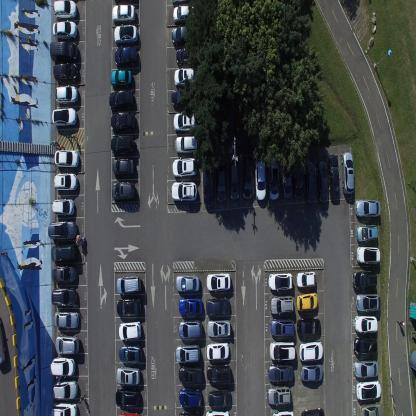car: (49, 40, 78, 62), (108, 87, 134, 111), (48, 218, 76, 240), (327, 154, 340, 200), (51, 378, 78, 400), (353, 334, 378, 357), (51, 285, 76, 308), (54, 333, 80, 355), (171, 180, 197, 202), (355, 379, 381, 401), (175, 342, 200, 364), (206, 362, 231, 384), (116, 274, 141, 296), (50, 356, 75, 378), (298, 340, 323, 362), (172, 111, 198, 132), (269, 340, 295, 361), (52, 61, 79, 81), (342, 151, 354, 196), (50, 243, 78, 262), (110, 134, 134, 156), (270, 293, 294, 315), (304, 160, 316, 204), (178, 319, 203, 340), (178, 387, 203, 408), (266, 384, 291, 405), (110, 111, 135, 132), (171, 25, 196, 46), (352, 270, 378, 290), (268, 362, 294, 382), (355, 198, 381, 218), (51, 264, 77, 284), (170, 88, 196, 108), (113, 24, 139, 44), (52, 106, 78, 126), (53, 149, 80, 168), (173, 67, 196, 89), (118, 320, 142, 341), (175, 273, 200, 293), (356, 244, 381, 264), (53, 172, 78, 192), (54, 84, 79, 104), (255, 157, 266, 202), (268, 155, 279, 200), (53, 310, 79, 329), (205, 272, 231, 291), (52, 20, 78, 39), (281, 156, 292, 200), (317, 160, 328, 204), (300, 361, 323, 382), (172, 158, 196, 178), (204, 160, 214, 208), (111, 181, 135, 201), (206, 296, 230, 316), (206, 340, 230, 360), (115, 386, 139, 406), (354, 313, 378, 333), (356, 292, 380, 312), (118, 343, 142, 363), (116, 364, 140, 384), (117, 298, 142, 317), (268, 272, 293, 291), (296, 291, 318, 312), (174, 134, 197, 154), (52, 197, 75, 217), (178, 297, 202, 316), (178, 365, 202, 384), (354, 359, 378, 378), (297, 317, 321, 336), (172, 4, 196, 23), (53, 0, 77, 19), (216, 161, 227, 202), (229, 162, 240, 202), (356, 222, 378, 242), (112, 3, 135, 22), (111, 158, 135, 176), (207, 318, 231, 336), (270, 318, 294, 336), (175, 47, 197, 66), (208, 388, 231, 406), (243, 156, 252, 200), (294, 154, 303, 197), (51, 401, 78, 415), (296, 270, 316, 287), (360, 401, 384, 415), (300, 407, 325, 415), (272, 408, 294, 415), (205, 409, 230, 415), (178, 410, 202, 416), (118, 409, 141, 415)
